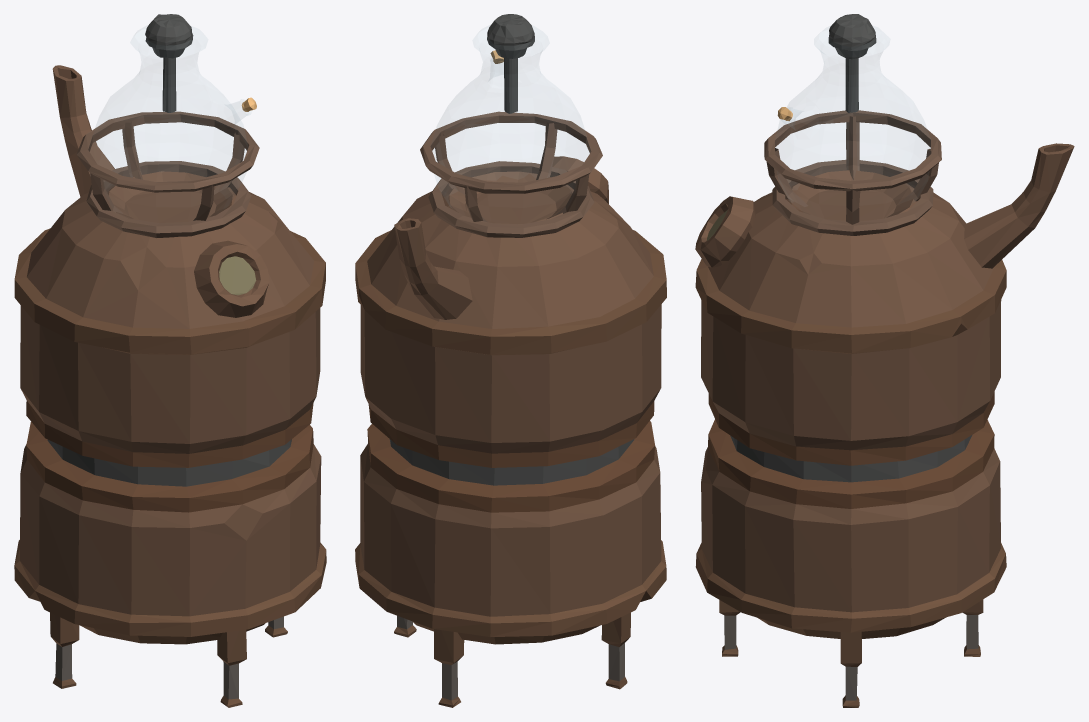
Rendered from SFHW_Alchemy_Kit_003.fbx.
3 views of the same model, side by side, from view 1: azimuth 30°, elevation 25°; view 2: azimuth 150°, elevation 25°; view 3: azimuth 270°, elevation 25° (orthographic).
Parts seen in each view (by area): view 1: SFHW_Alchemy_Kit_003; view 2: SFHW_Alchemy_Kit_003; view 3: SFHW_Alchemy_Kit_003.
Boxes of the visible parts, bbox=[...] form: SFHW_Alchemy_Kit_003: bbox=[14, 14, 326, 707]; SFHW_Alchemy_Kit_003: bbox=[355, 14, 666, 707]; SFHW_Alchemy_Kit_003: bbox=[695, 14, 1074, 707].
Size of the model in its own units: 63.94 by 144 by 77.97.
